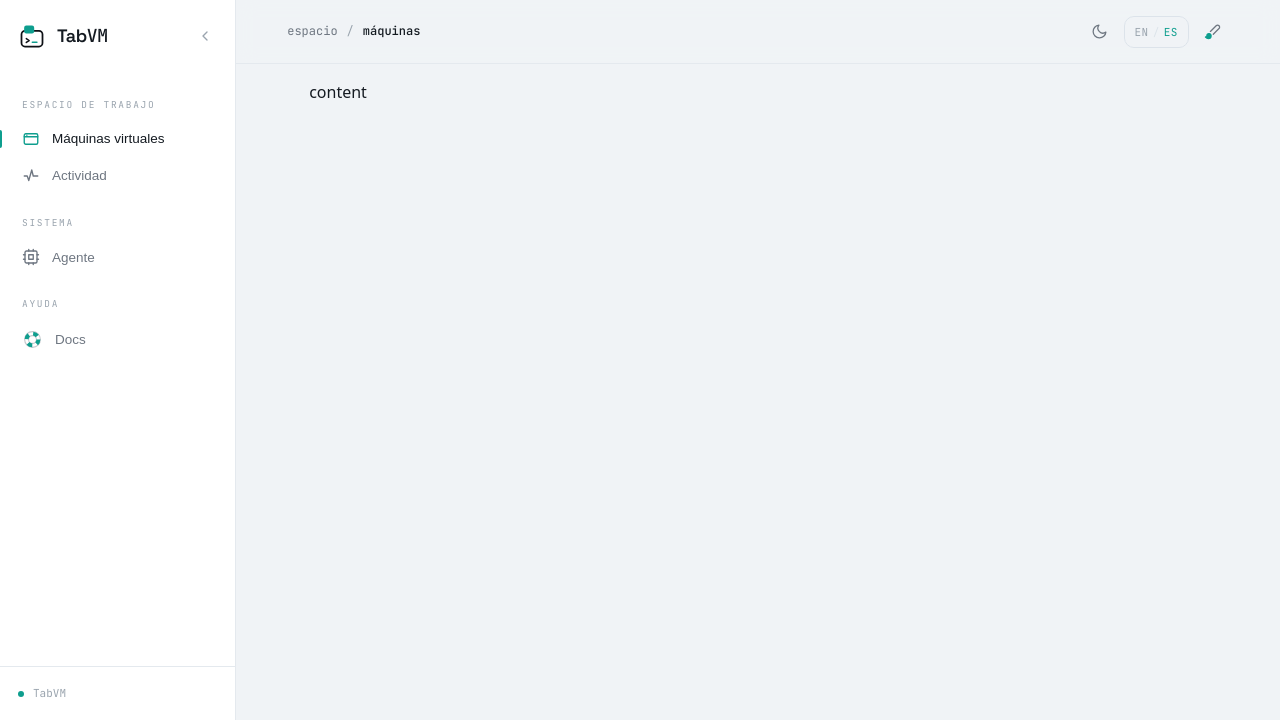
Test: AppShell › exposes Spanish aria-labels on the accent picker when the language is Spanish
Click the button named "Color de acento" at (1213, 32), box [1197, 16, 1229, 48]
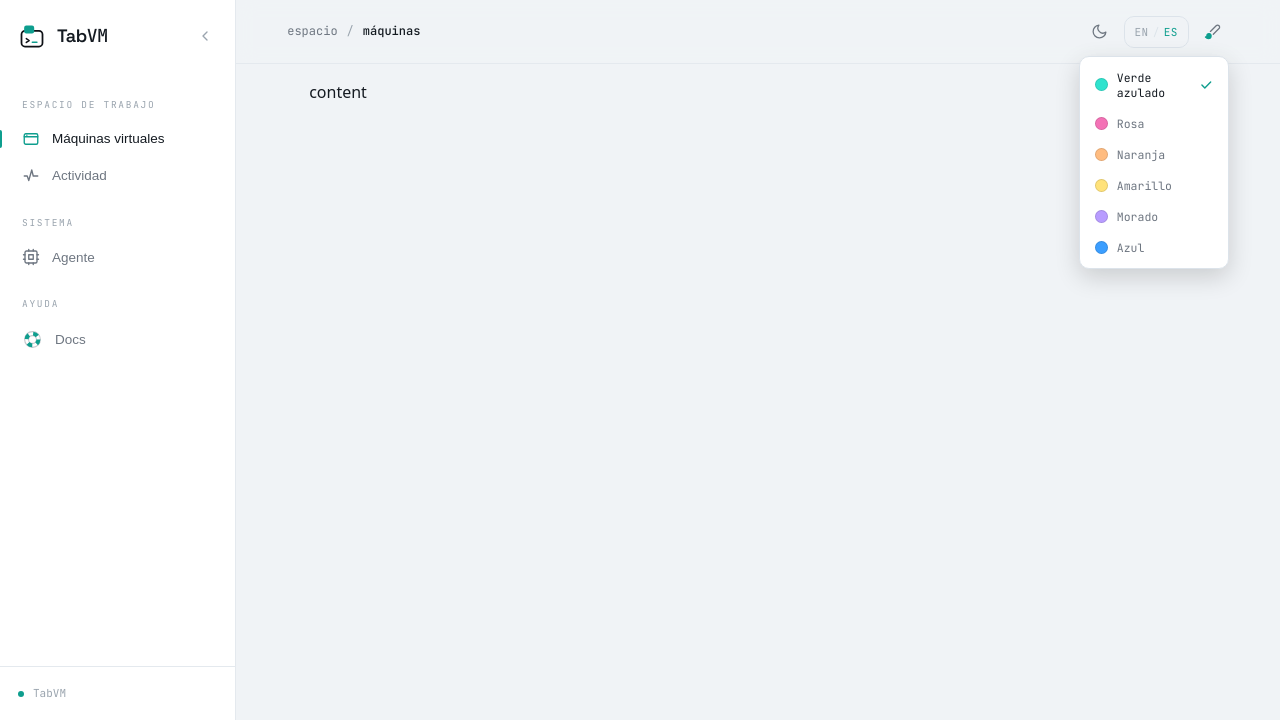
Check: the menu item labelled "Verde azulado" is shown, box [1086, 62, 1222, 106]
Check: the menu item labelled "Rosa" is shown, box [1086, 108, 1222, 138]
Check: the menu item labelled "Naranja" is shown, box [1086, 140, 1222, 168]
